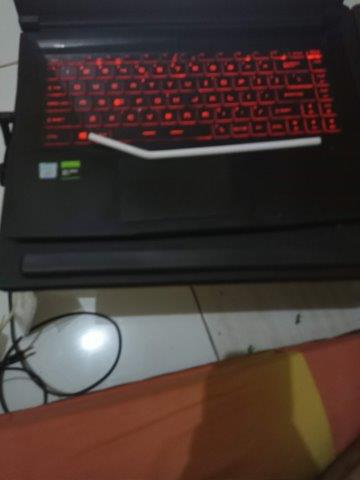sedotan: (88, 132, 322, 160)
